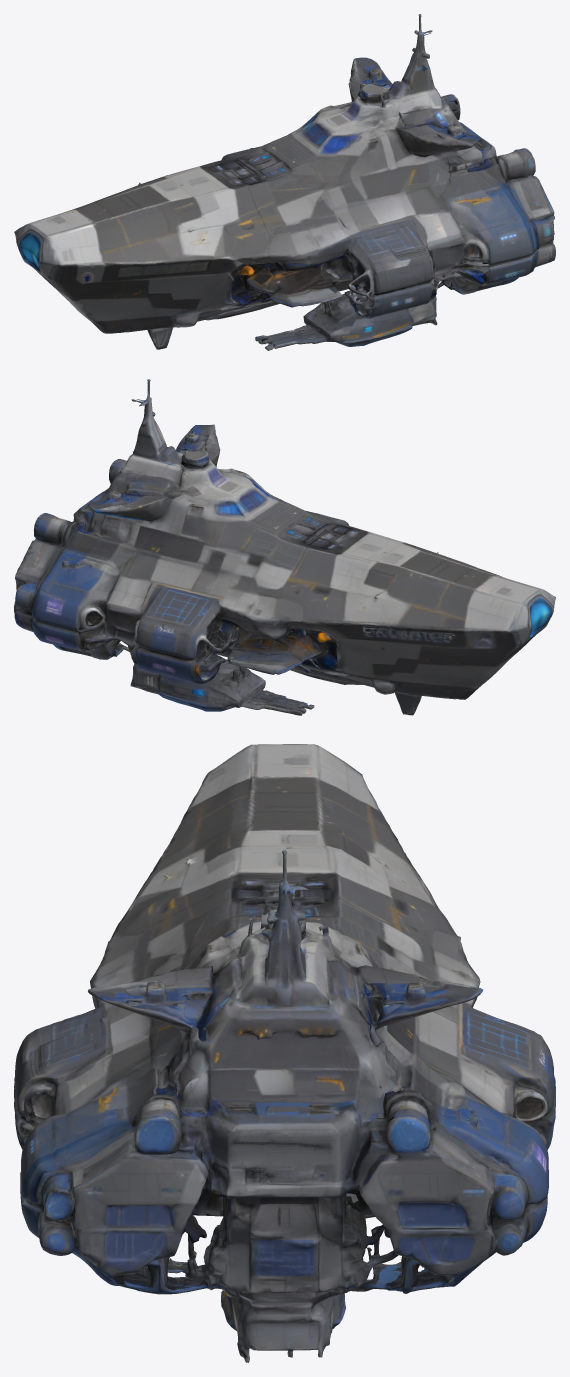
File: Starship_Calypso_0521230350_texture.glb
3 renders of one model, top to bottom at view 1: azimuth 30°, elevation 25°; view 2: azimuth 150°, elevation 25°; view 3: azimuth 270°, elevation 25°, orthographic. The views are drawn at different scales.
Parts seen in each view (by area): view 1: Mesh_0; view 2: Mesh_0; view 3: Mesh_0.
Part boxes in pixels (x1=…): Mesh_0: x1=14, y1=14, x2=555, y2=350; Mesh_0: x1=14, y1=379, x2=555, y2=715; Mesh_0: x1=14, y1=744, x2=555, y2=1362.
Size of the model in its own units: 236 by 150 by 143.
Materials: 1 (1 with a texture image).
